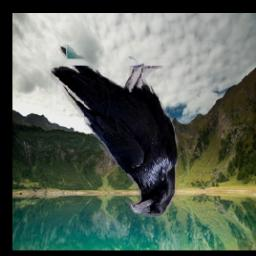Crow: (52, 45, 179, 217)
